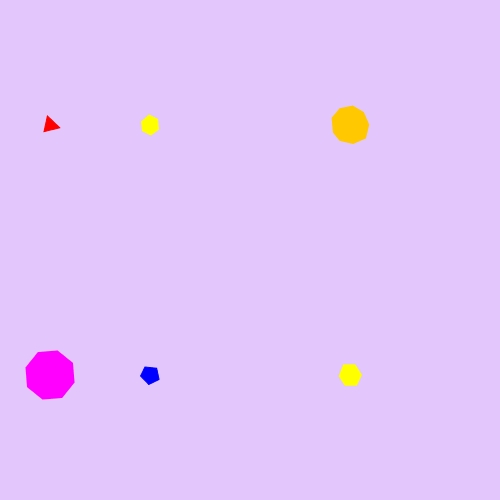hexagon: (334, 361, 367, 390), (135, 112, 165, 138)
nonagon: (327, 103, 374, 148)
octagon: (21, 346, 80, 405)
pentagon: (136, 361, 164, 389)
triangle: (38, 112, 63, 138)
